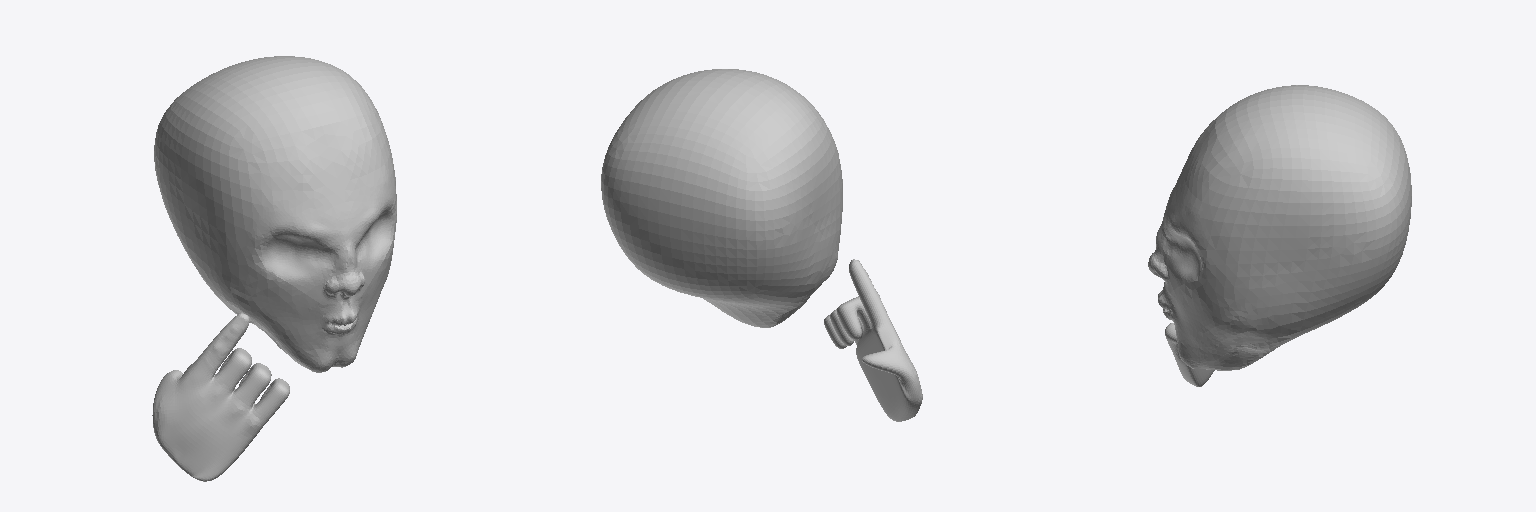
The model's file is mog2.obj.
The picture shows the model from 3 angles: view 1: azimuth 30°, elevation 25°; view 2: azimuth 150°, elevation 25°; view 3: azimuth 270°, elevation 25°; orthographic projection.
Visible parts, largest first — view 1: Cube, Cube.001; view 2: Cube, Cube.001; view 3: Cube, Cube.001.
Part boxes in pixels (x1,y1,x2,y2): Cube: (154,56,396,372); Cube.001: (152,313,289,481); Cube: (601,69,842,327); Cube.001: (824,259,922,421); Cube: (1148,85,1411,370); Cube.001: (1165,323,1214,386).
Bounding box in the file's own units: 1.96 × 2.57 × 1.77.